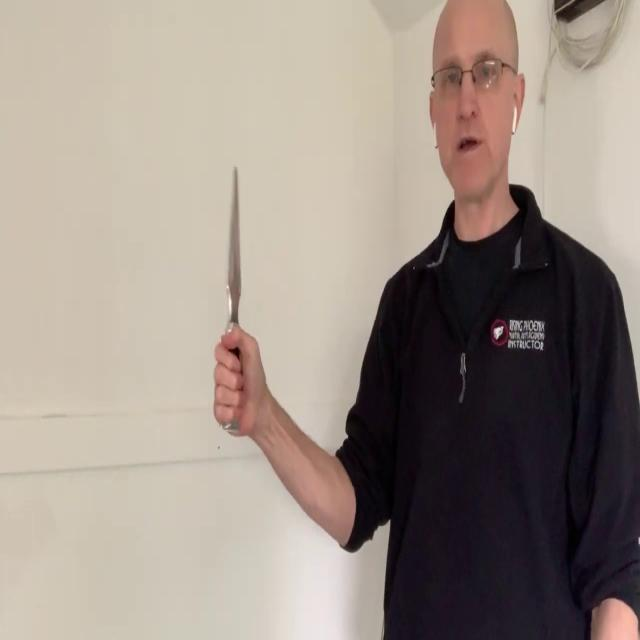Knife_Handle: (214, 165, 260, 437)
